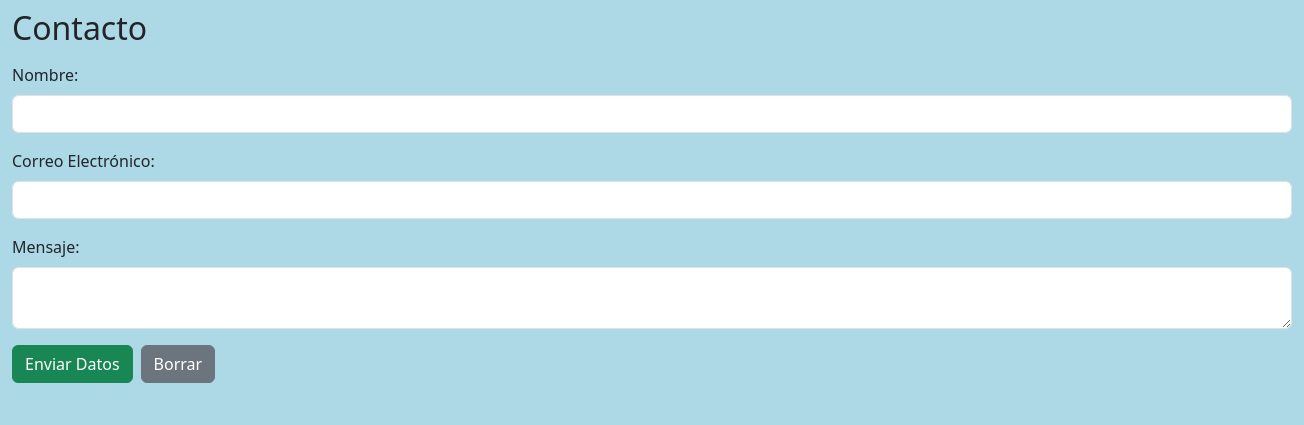
Scenario: Contacto › Muestra error de correo inválido cuando el formato es incorrecto
This screenshot has width=1304, height=425.
In the field labelled "Nombre:": [652, 114] box [12, 95, 1292, 133], type "Ana"
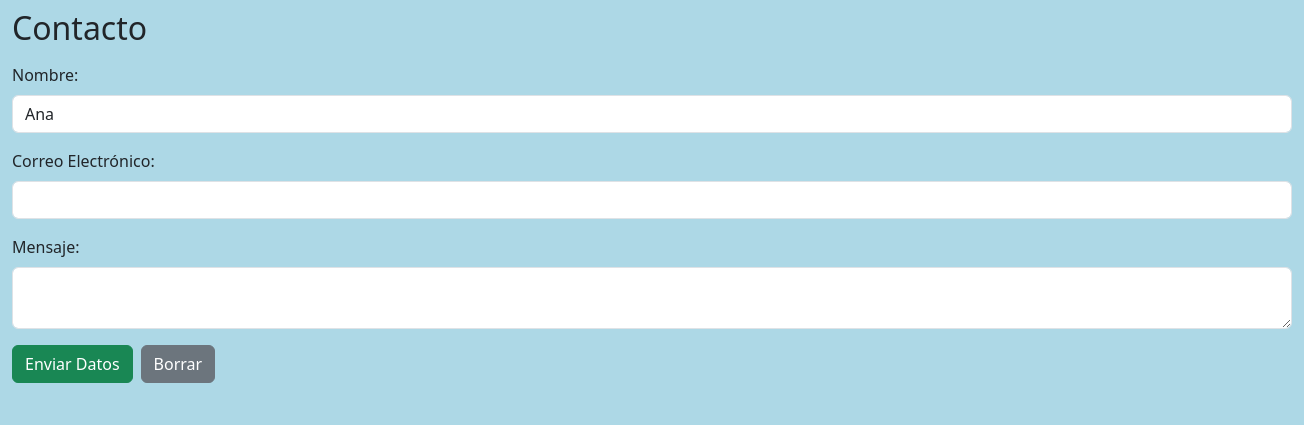
In the text box labelled "Mensaje:": [652, 298] box [12, 267, 1292, 329], type "Hola"
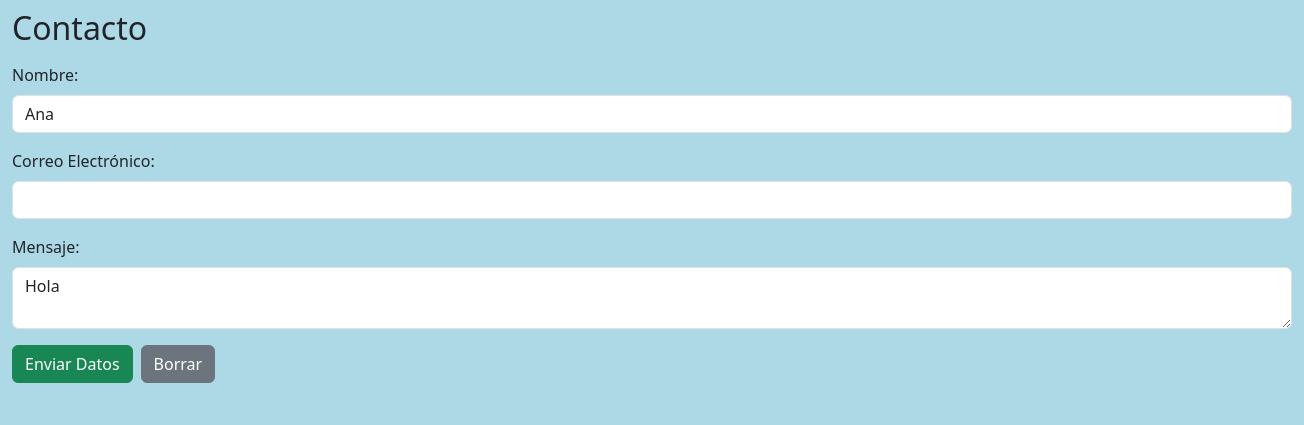
In the field labelled "Correo Electrónico:": [652, 200] box [12, 181, 1292, 219], type "bad-email"
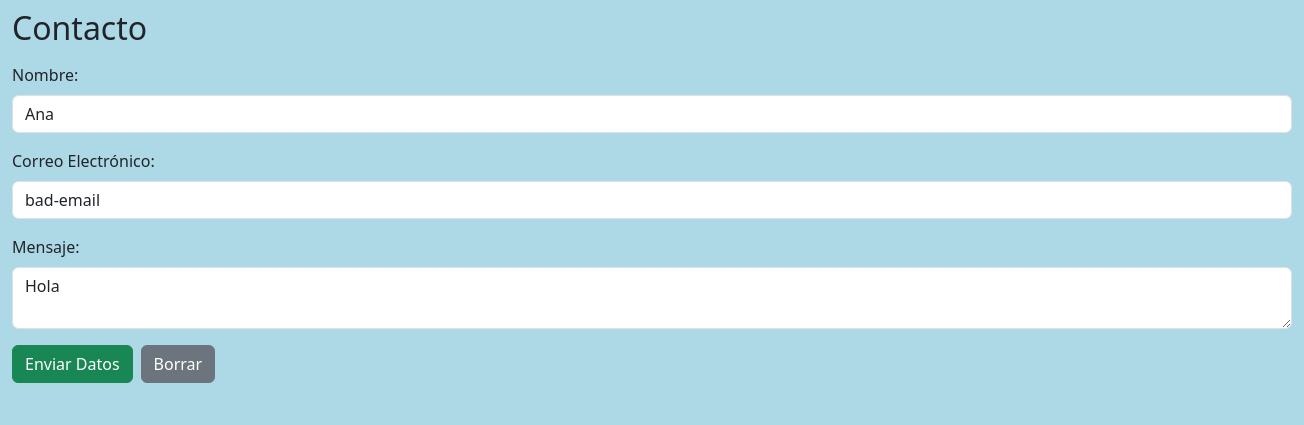
Click the button "Enviar Datos": [72, 364] box [12, 345, 133, 383]
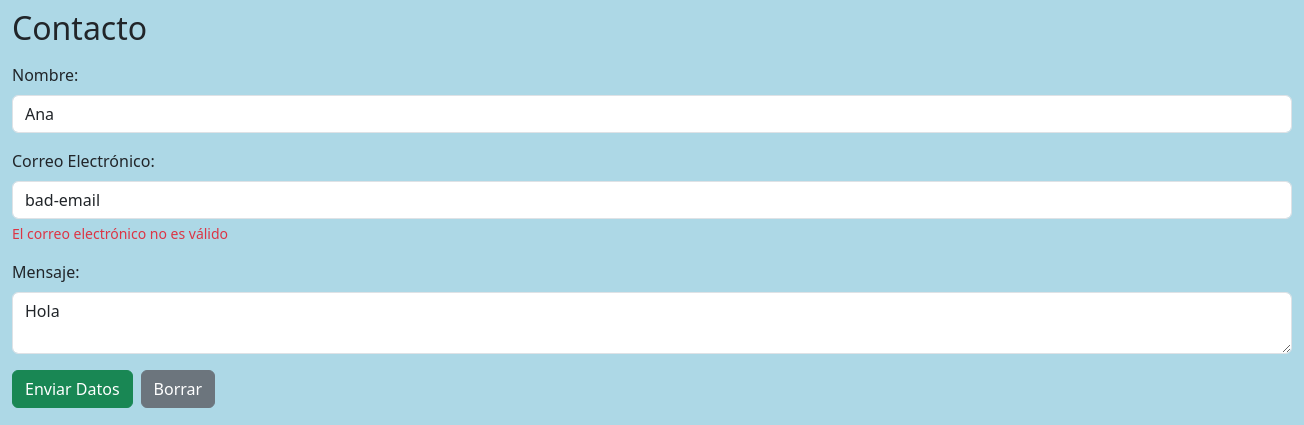
Result: the text "El correo electrónico no es válido" is shown at [12, 224, 228, 243]
